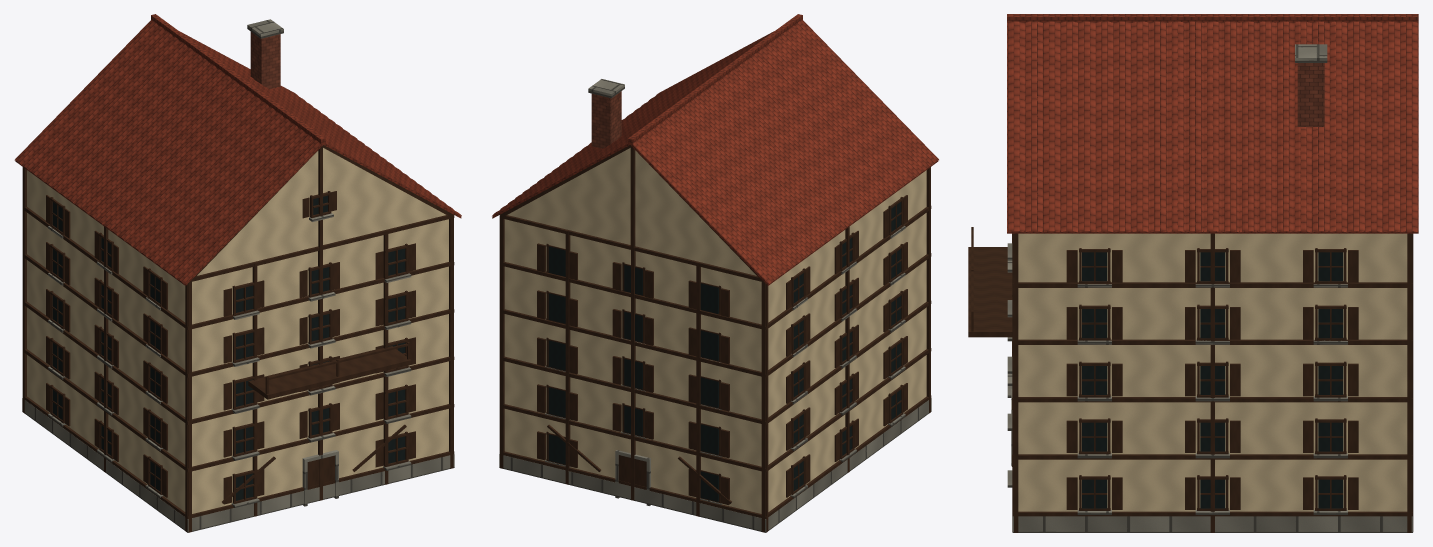
Rendered from SG_House_F_Guild_LOD0.fbx.
3 views of the same model, side by side, from view 1: azimuth 30°, elevation 25°; view 2: azimuth 150°, elevation 25°; view 3: azimuth 270°, elevation 25° (orthographic). The views are drawn at different scales.
Visible parts, largest first — view 1: SG_House_F_Guild_Detail0; view 2: SG_House_F_Guild_Detail0; view 3: SG_House_F_Guild_Detail0.
Part boxes in pixels (x1,y1,x2,y2): SG_House_F_Guild_Detail0: (14,14,461,532); SG_House_F_Guild_Detail0: (492,14,938,532); SG_House_F_Guild_Detail0: (968,14,1418,532).
Bounding box in the file's own units: 27.65 × 34.95 × 32.05.
